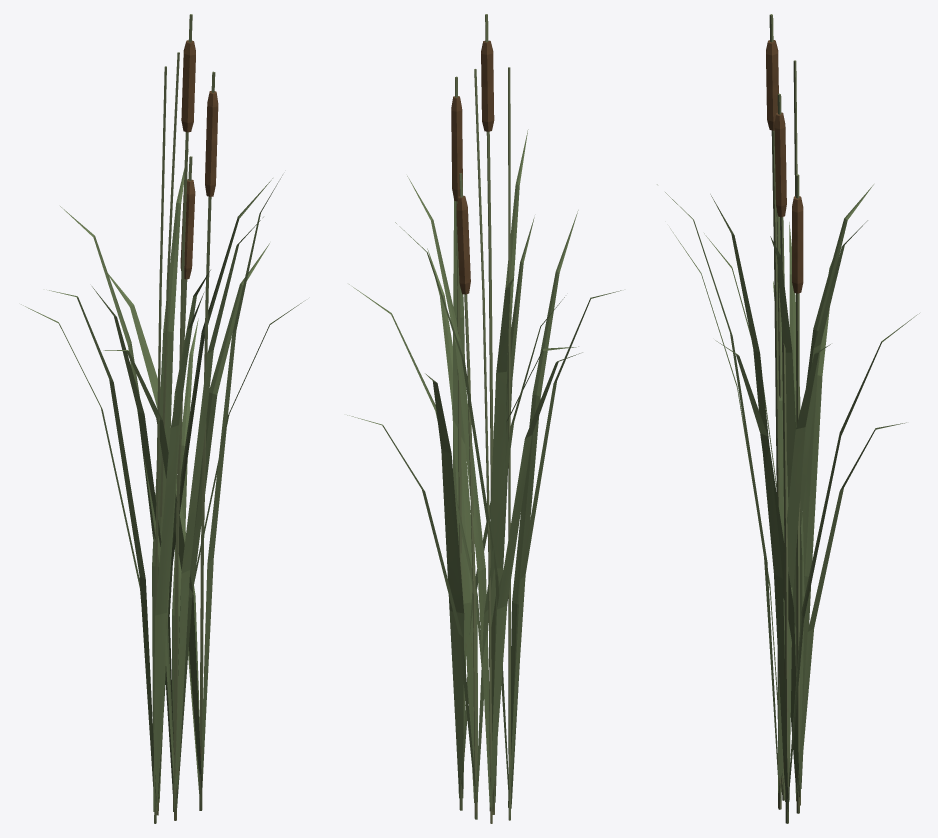
Rendered from lake_cattails_sparse.glb.
The picture shows the model from 3 angles, left to right: view 1: azimuth 30°, elevation 25°; view 2: azimuth 150°, elevation 25°; view 3: azimuth 270°, elevation 25°; orthographic projection.
Parts seen in each view (by area): view 1: CattailsSparse; view 2: CattailsSparse; view 3: CattailsSparse.
Part boxes in pixels (x1,y1,x2,y2): CattailsSparse: (21,14,305,823); CattailsSparse: (347,14,621,823); CattailsSparse: (657,14,919,823).
Size of the model in its own units: 0.45 by 1.35 by 0.4102.
Materials: 1 (1 with a texture image).
